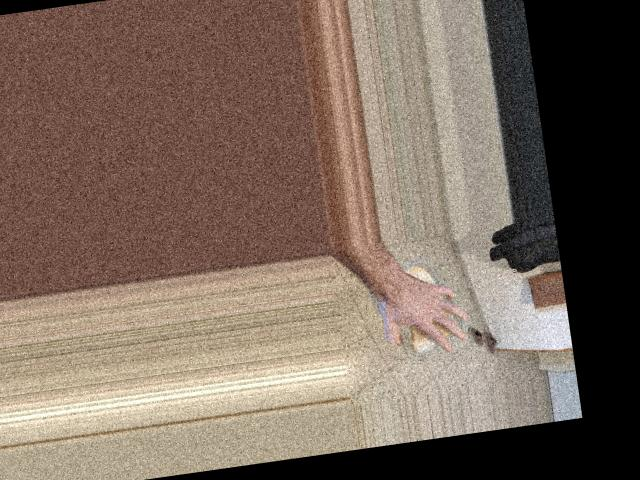cheese: (367, 257, 471, 362)
